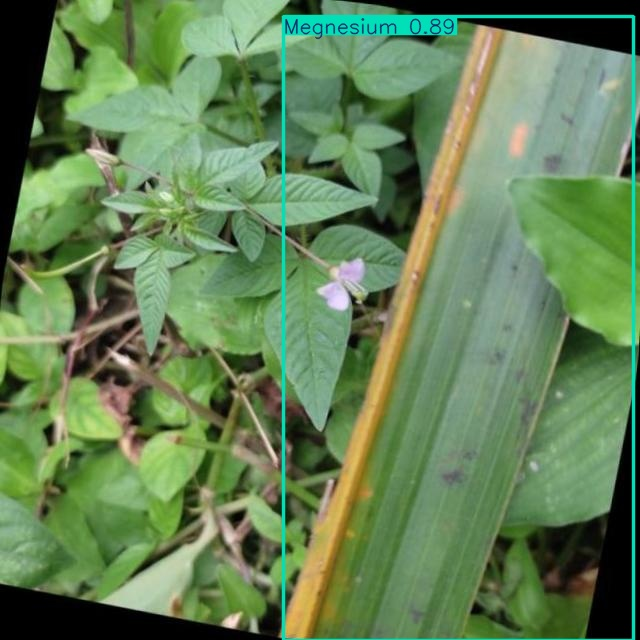Megnesium: (283, 17, 633, 640)
